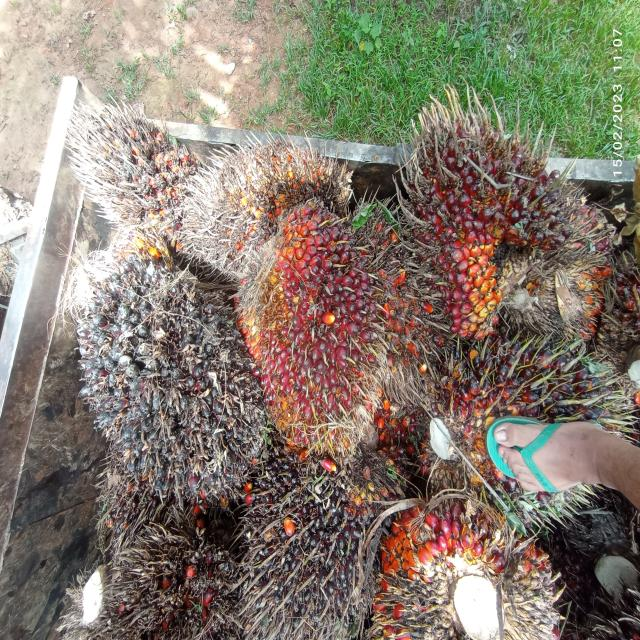fraksi 00: (68, 237, 275, 508), (244, 430, 379, 640)
fraksi 1: (393, 81, 584, 361)
fraksi 3: (237, 178, 375, 456)
fraksi 4: (200, 120, 350, 271)
